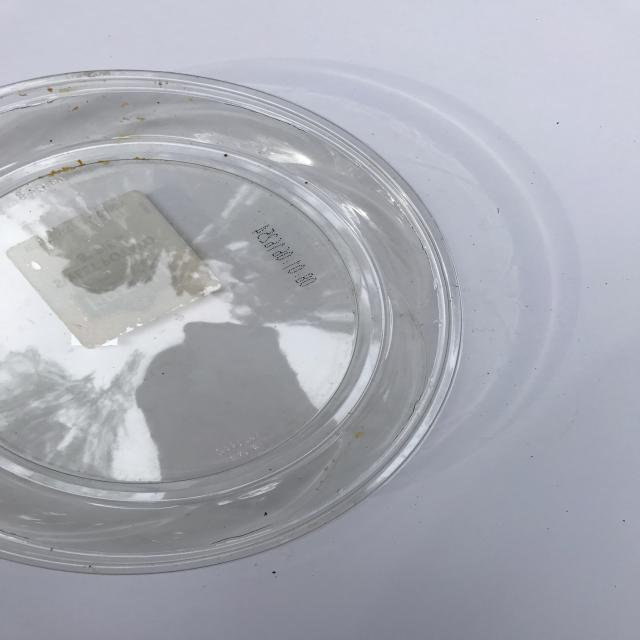plastic: (1, 69, 462, 574)
